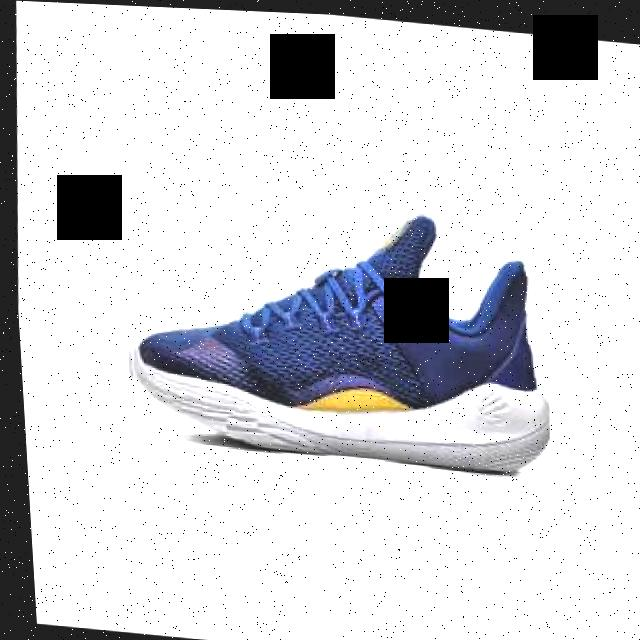shoe: (110, 183, 558, 472)
